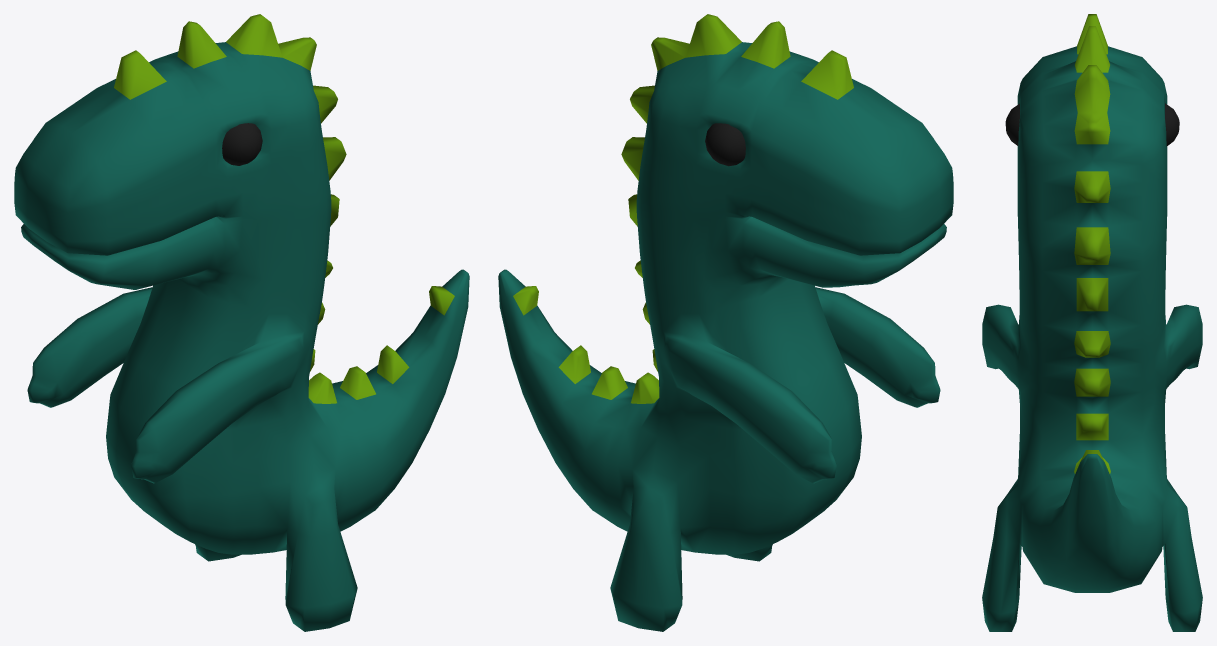
The model's file is lowpoly dainasour.FBX.
3 views of the same model, side by side, from view 1: azimuth 30°, elevation 25°; view 2: azimuth 150°, elevation 25°; view 3: azimuth 270°, elevation 25° (orthographic). The views are drawn at different scales.
Parts seen in each view (by area): view 1: Box003; view 2: Box003; view 3: Box003.
Boxes of the visible parts, <box> form: Box003: <box>14,14,469,631</box>; Box003: <box>498,14,953,631</box>; Box003: <box>982,14,1202,631</box>.
Size of the model in its own units: 32.72 by 42.43 by 15.24.
